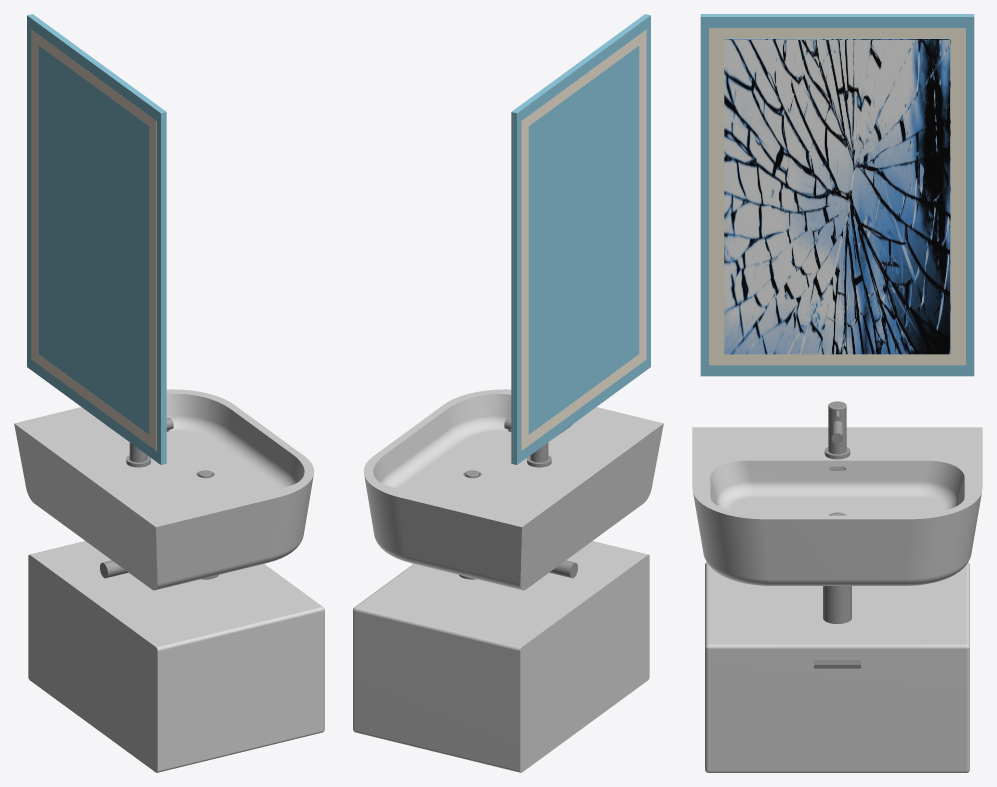
Rendered from sink.fbx.
The picture shows the model from 3 angles, left to right: view 1: azimuth 30°, elevation 25°; view 2: azimuth 150°, elevation 25°; view 3: azimuth 270°, elevation 25°; orthographic projection. The views are drawn at different scales.
Parts seen in each view (by area): view 1: pCube4, pCube42, pCube44; view 2: pCube4, pCube42, pCube44; view 3: pCube42, pCube4, pCube44, polySurface1.001, pCylinder14.
Boxes of the visible parts, bbox=[...] form: pCube4: bbox=[28, 541, 324, 772]; pCube42: bbox=[27, 14, 166, 464]; pCube44: bbox=[14, 389, 314, 590]; pCube4: bbox=[353, 541, 649, 772]; pCube42: bbox=[511, 14, 650, 464]; pCube44: bbox=[363, 389, 663, 590]; pCube42: bbox=[700, 14, 974, 376]; pCube4: bbox=[705, 562, 969, 772]; pCube44: bbox=[692, 427, 982, 585]; polySurface1.001: bbox=[824, 401, 850, 459]; pCylinder14: bbox=[823, 586, 851, 623].
Size of the model in its own units: 4.05 by 13.87 by 5.39.
9 materials, 1 textured.
